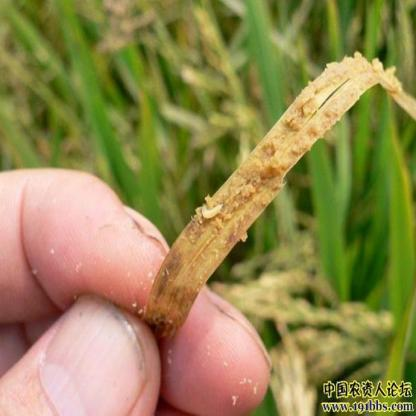whorl-maggot: (198, 199, 228, 226)
